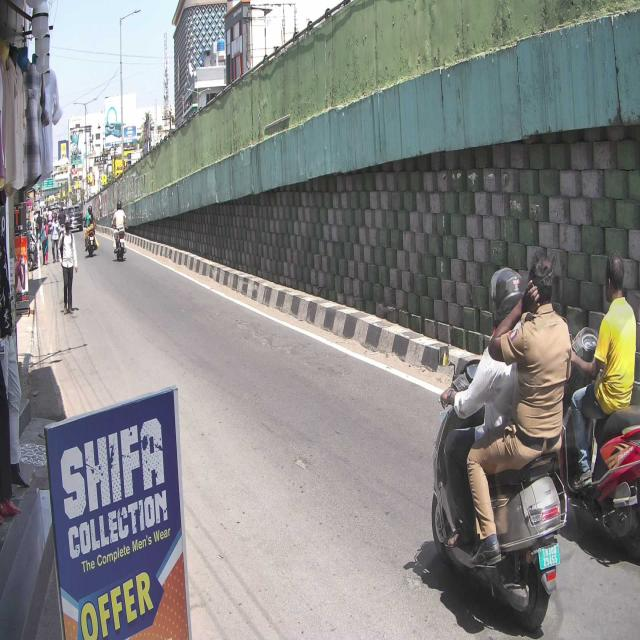double_rider: (430, 249, 572, 635)
